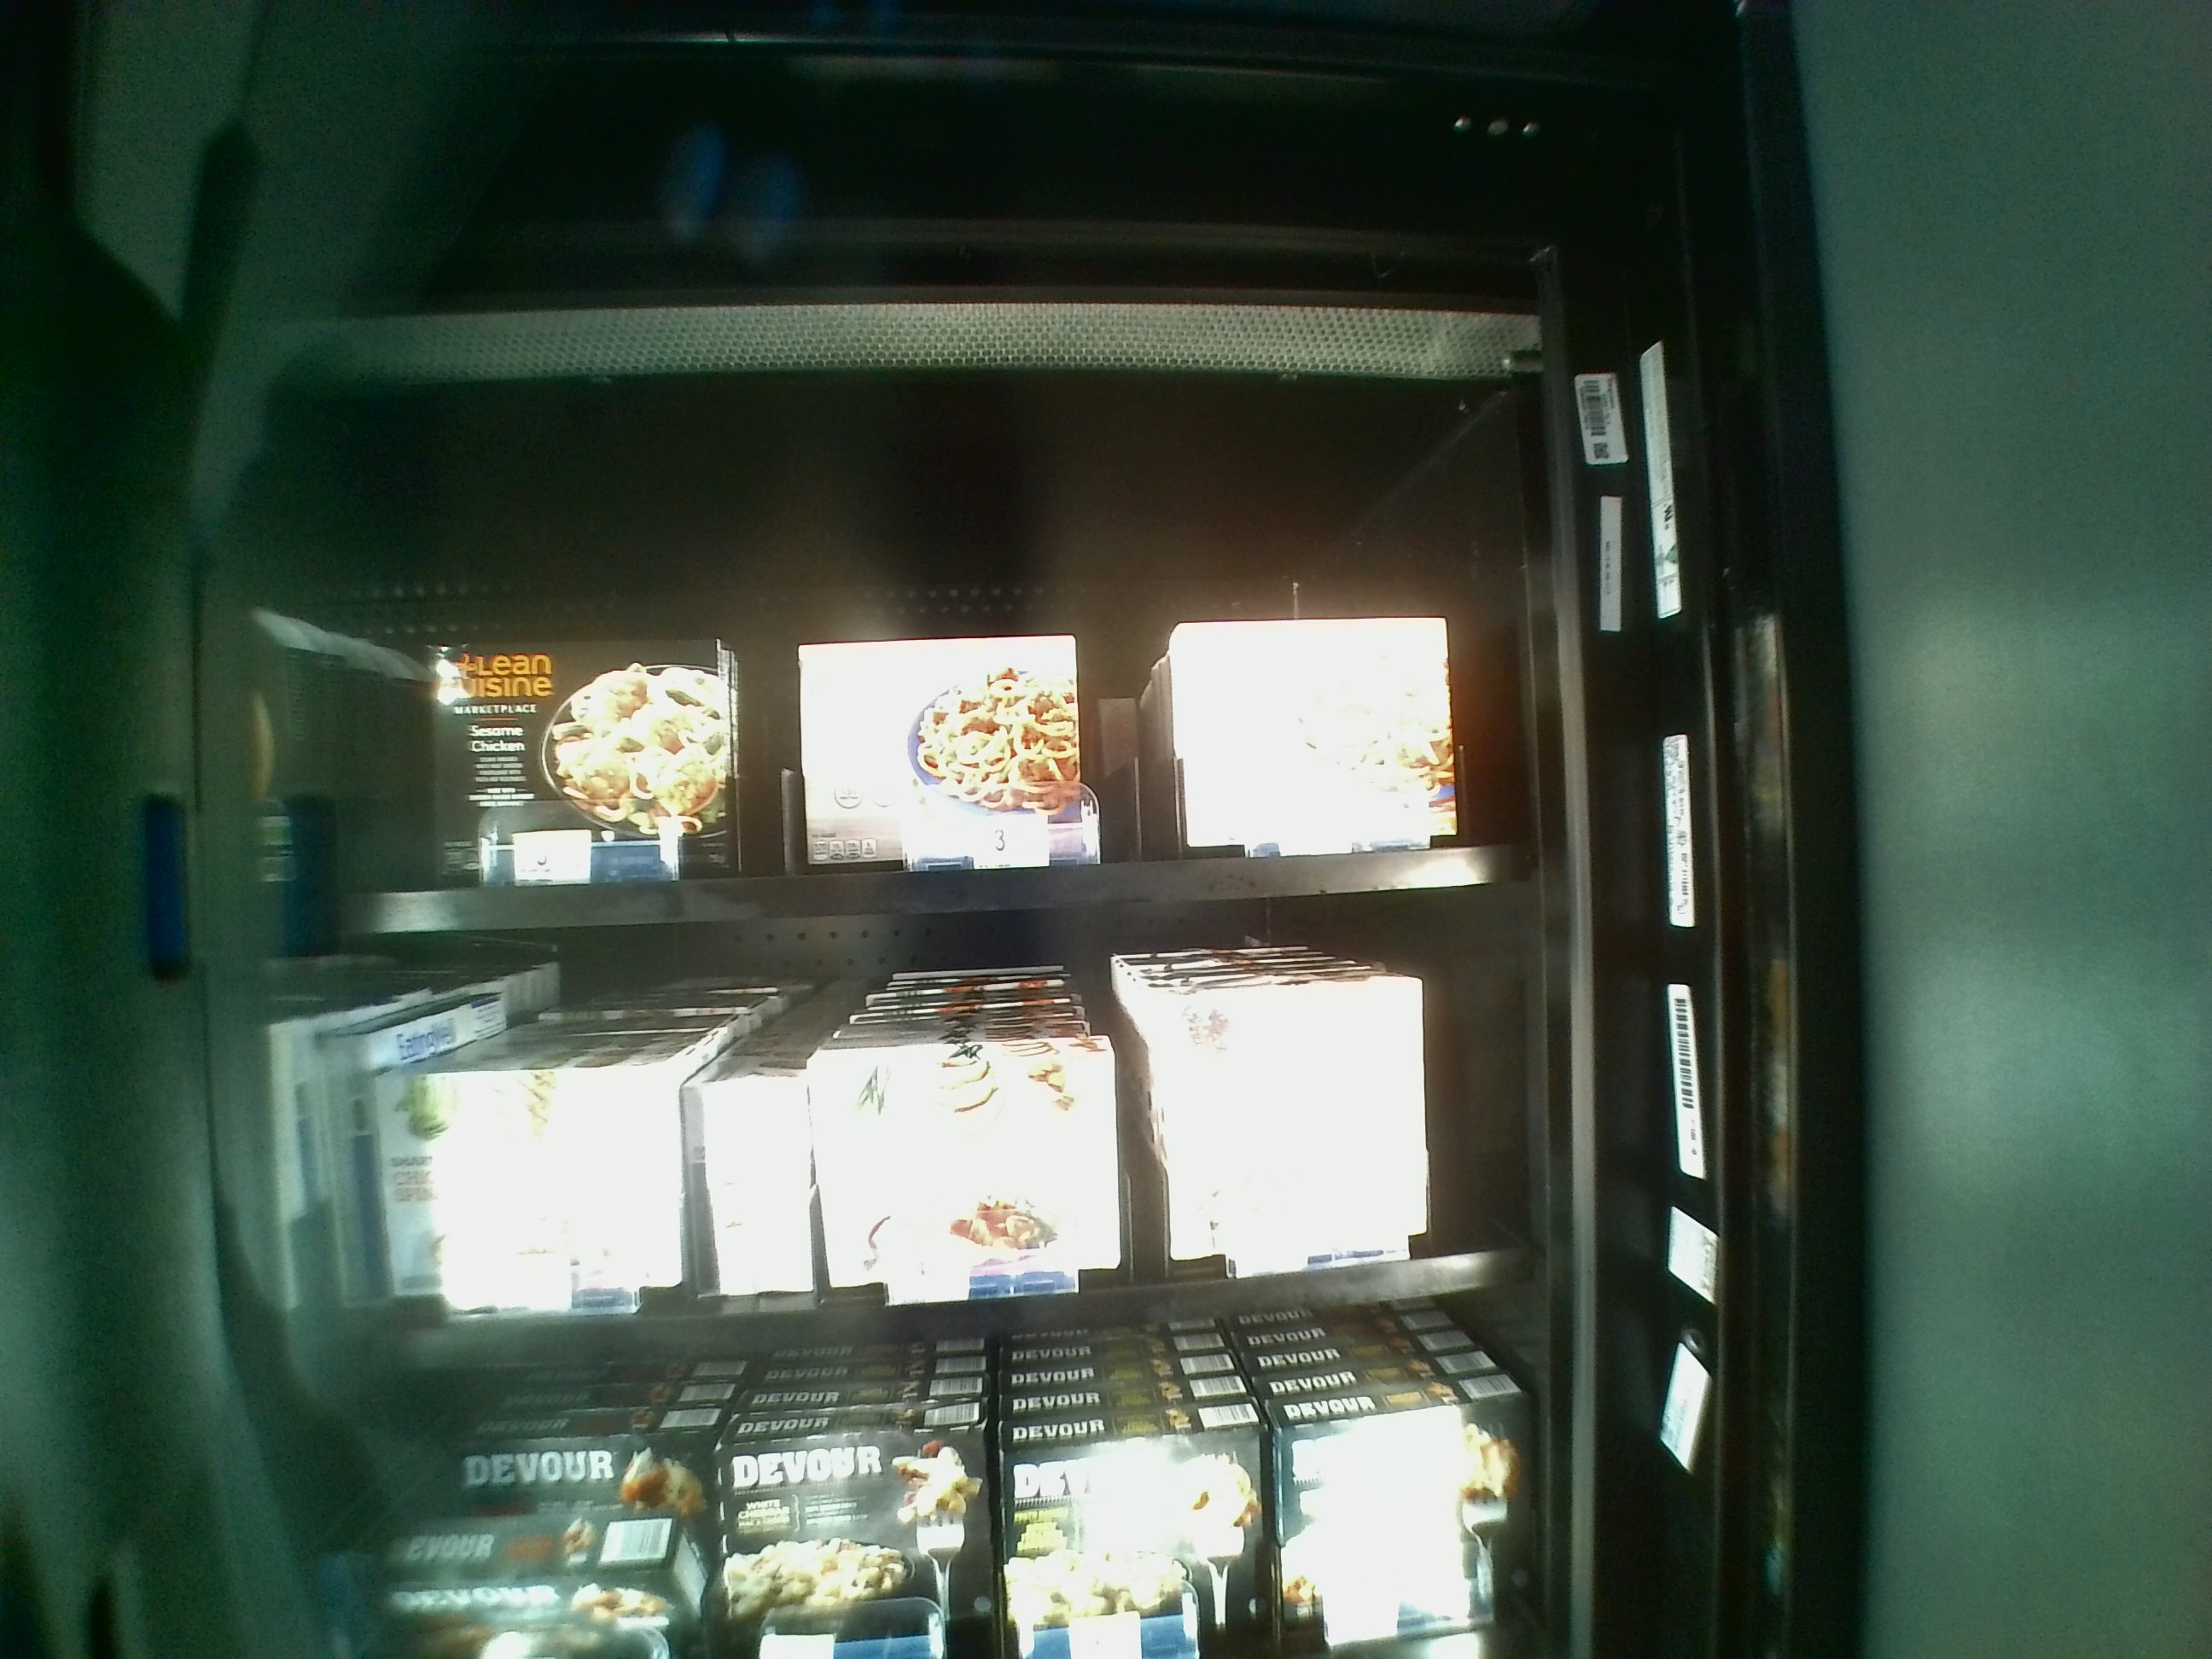shelf: (315, 948, 1543, 1364), (326, 523, 1526, 932)
